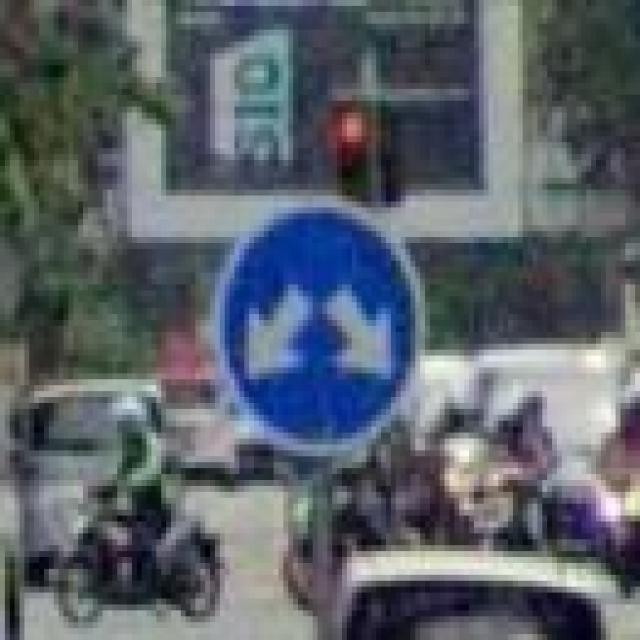left_righ_lane: (210, 196, 425, 457)
